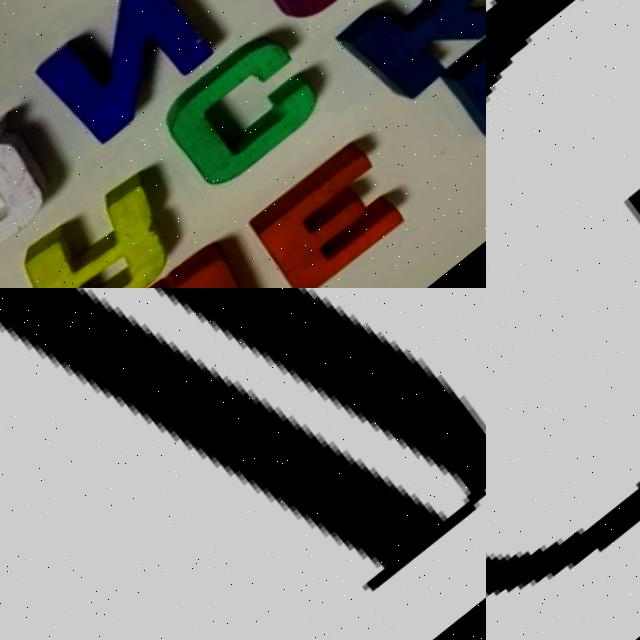3: (486, 0, 640, 288)
C: (156, 24, 341, 204)
D: (0, 288, 486, 640), (432, 0, 486, 169)
E: (246, 142, 420, 288)
K: (333, 0, 486, 124)
N: (37, 0, 230, 153)
O: (486, 288, 640, 604)
Q: (0, 109, 70, 288)
R: (11, 172, 201, 288)
S: (235, 0, 433, 45)
W: (100, 236, 281, 288)
